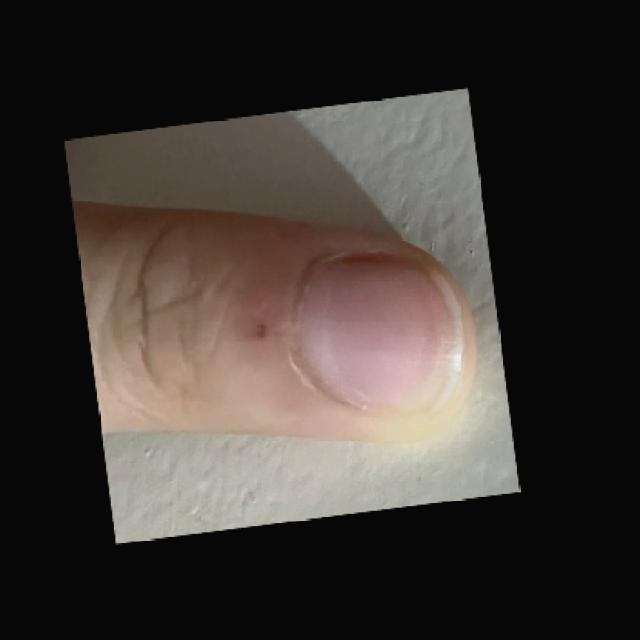Nail: (298, 256, 461, 416)
